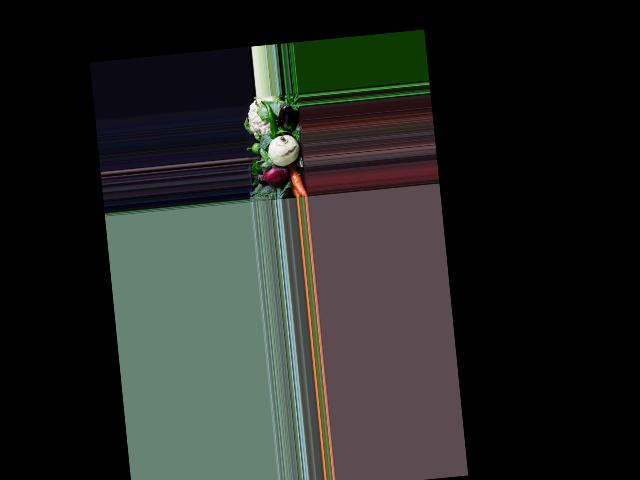carrot: (286, 168, 308, 199)
